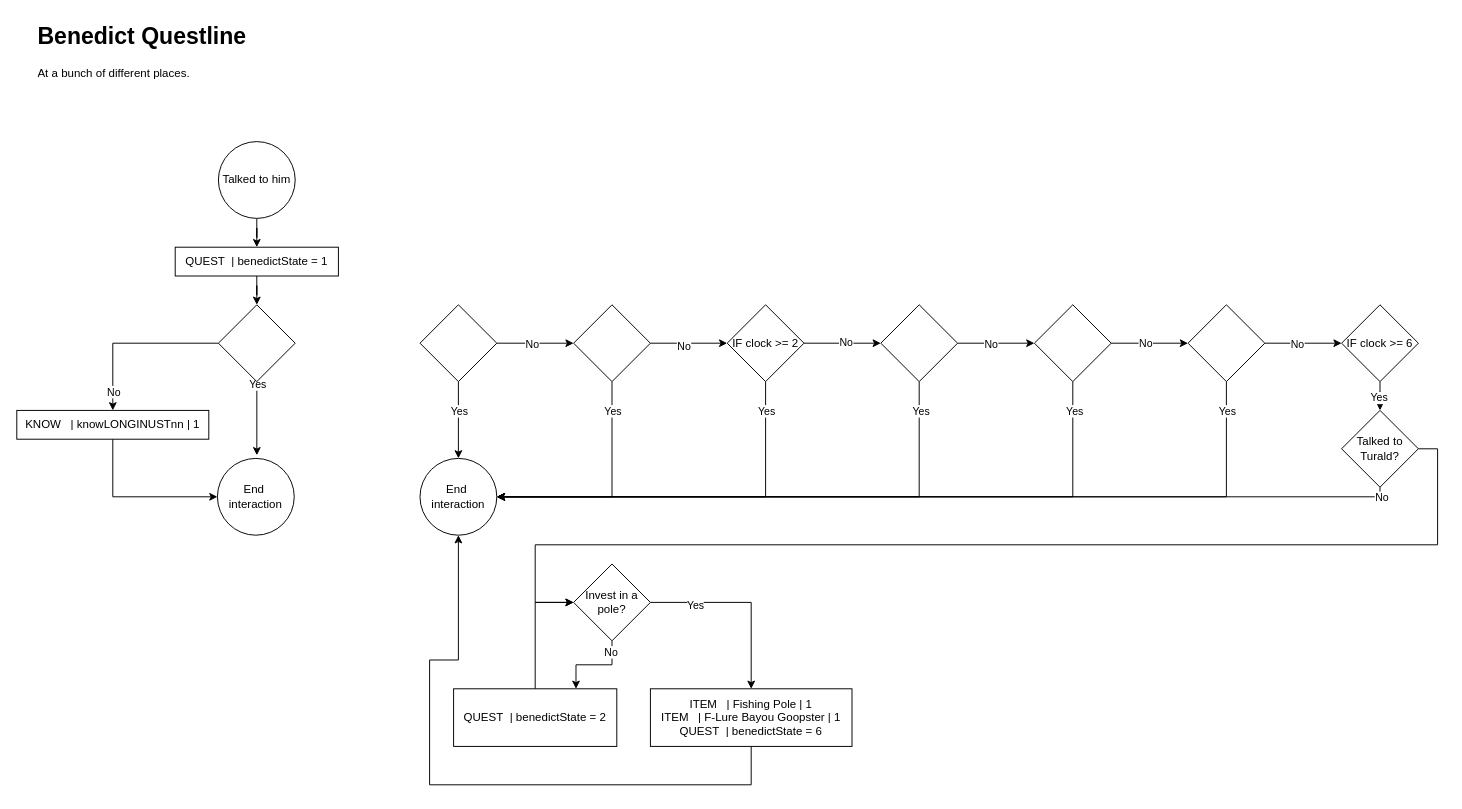
Image size: 1462x809. Some labels were removed from this diagram. The box of each missing label's shape, as (x1, y1, x2, y2) in pixels:
IF clock < 1: (419, 304, 497, 382)
IF clock >= 1: (573, 304, 650, 382)
IF clock >= 3: (880, 304, 958, 382)
IF clock >= 4: (1033, 304, 1111, 382)
IF clock >= 5: (1187, 304, 1265, 382)
Know about the sewers?: (217, 304, 295, 382)
